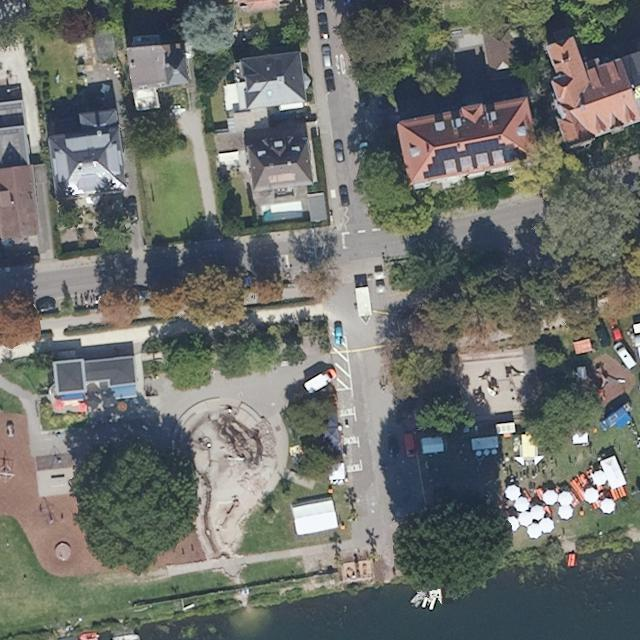PV: (422, 137, 524, 180)
